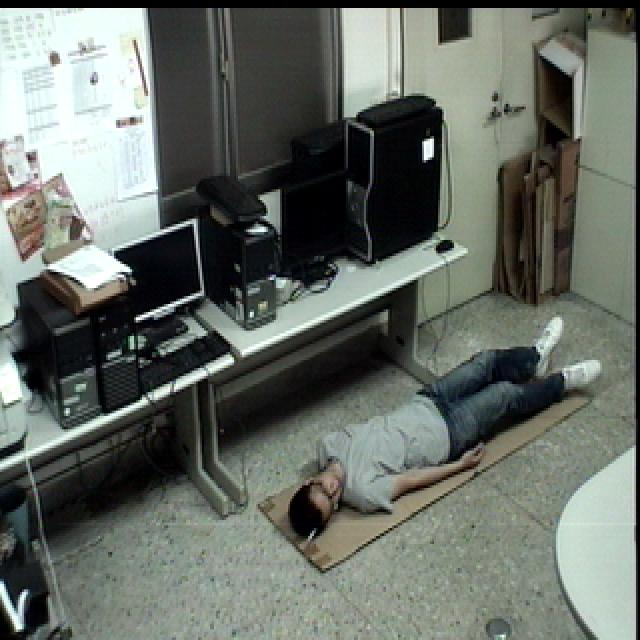lie: (286, 304, 612, 546)
